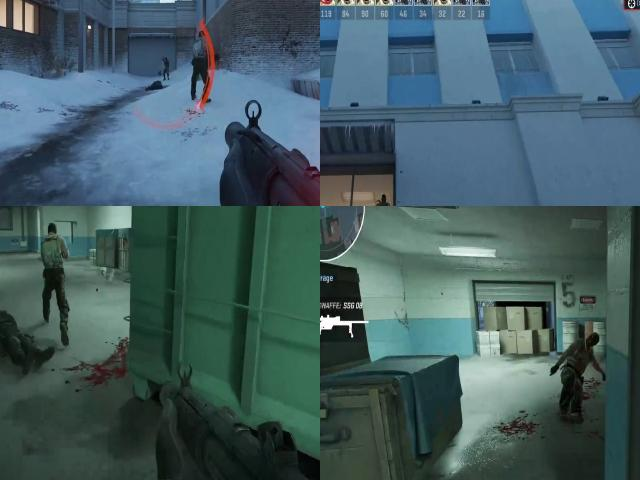CT: (163, 55, 171, 80)
CT-Head: (164, 54, 168, 64)
Dead: (542, 327, 604, 393), (0, 302, 41, 364), (143, 78, 166, 102)
T: (36, 229, 72, 282), (192, 36, 210, 73), (374, 194, 391, 206)
T-Head: (44, 217, 59, 242), (195, 30, 205, 47), (380, 194, 387, 206)
